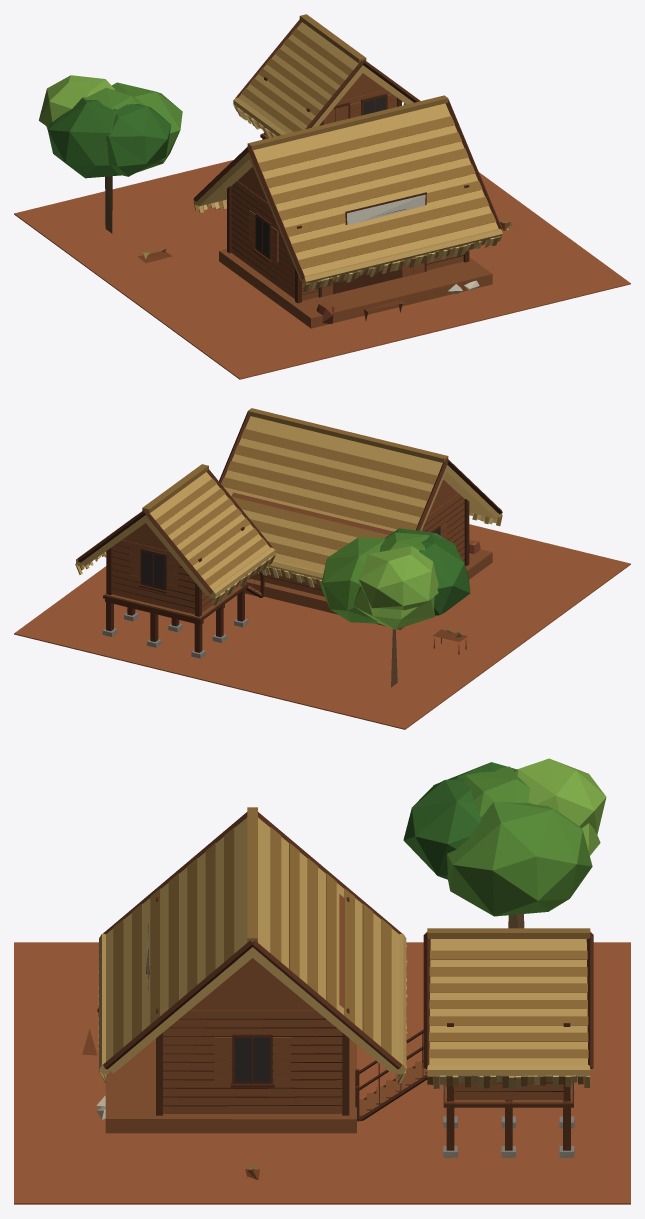
File: shop_2.glb
3 renders of one model, top to bottom at view 1: azimuth 30°, elevation 25°; view 2: azimuth 150°, elevation 25°; view 3: azimuth 270°, elevation 25°, orthographic. The views are drawn at different scales.
Parts seen in each view (by area): view 1: body, windows; view 2: body, windows; view 3: body, windows.
Part boxes in pixels (x1,y1,x2,y2): body: (14, 14, 630, 379); windows: (256, 96, 385, 257); body: (14, 408, 630, 729); windows: (142, 529, 439, 588); body: (14, 758, 630, 1204); windows: (235, 1037, 269, 1081).
Size of the model in its own units: 16.19 by 6.03 by 15.9.
